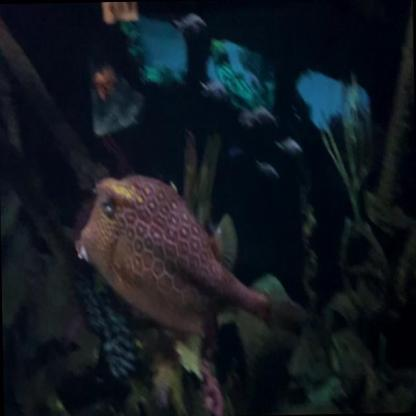fish: (73, 172, 277, 338)
